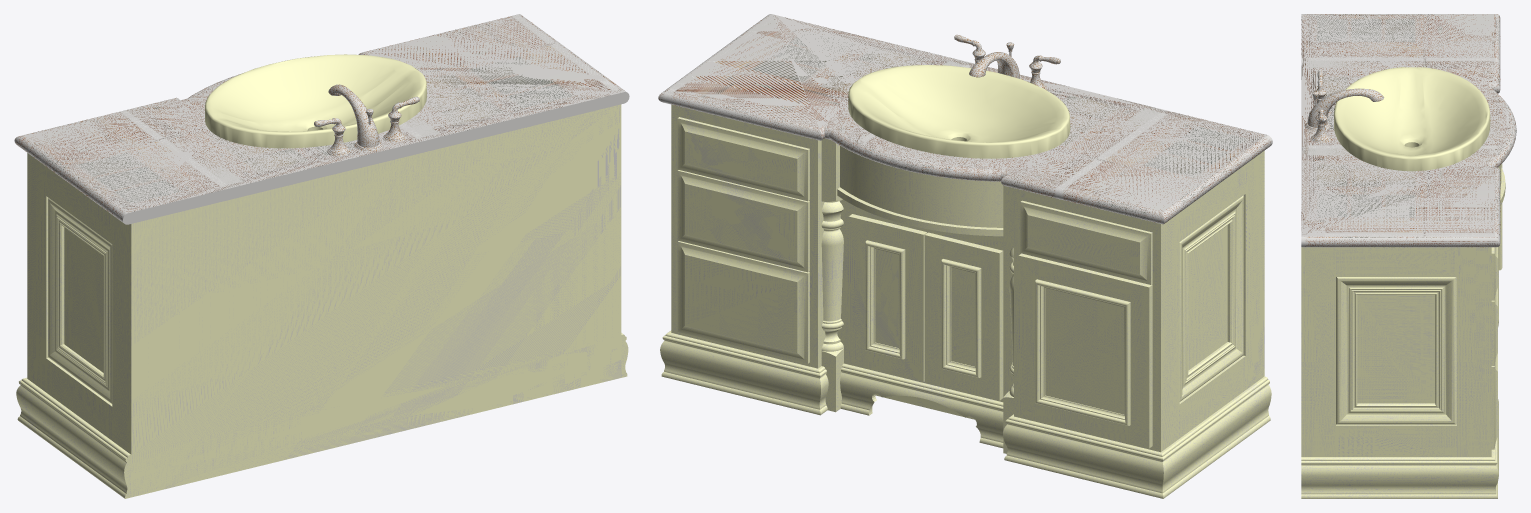
3 views of the same model, side by side, from view 1: azimuth 30°, elevation 25°; view 2: azimuth 150°, elevation 25°; view 3: azimuth 270°, elevation 25° (orthographic). The views are drawn at different scales.
Parts seen in each view (by area): view 1: mesh2_mesh2-geometry, mesh1_mesh1-geometry, mesh4_mesh4-geometry; view 2: mesh2_mesh2-geometry, mesh1_mesh1-geometry, mesh4_mesh4-geometry; view 3: mesh2_mesh2-geometry, mesh1_mesh1-geometry, mesh4_mesh4-geometry, mesh3_mesh3-geometry.
Part boxes in pixels (<box>): mesh2_mesh2-geometry: <box>14,14,629,498</box>; mesh1_mesh1-geometry: <box>205,54,426,148</box>; mesh4_mesh4-geometry: <box>328,84,382,151</box>; mesh2_mesh2-geometry: <box>658,14,1272,498</box>; mesh1_mesh1-geometry: <box>848,65,1070,158</box>; mesh4_mesh4-geometry: <box>969,52,1022,79</box>; mesh2_mesh2-geometry: <box>1301,14,1516,498</box>; mesh1_mesh1-geometry: <box>1334,67,1490,171</box>; mesh4_mesh4-geometry: <box>1304,88,1383,131</box>; mesh3_mesh3-geometry: <box>1310,109,1331,142</box>.
Bounding box in the file's own units: 0.8064 × 0.4946 × 0.324.
